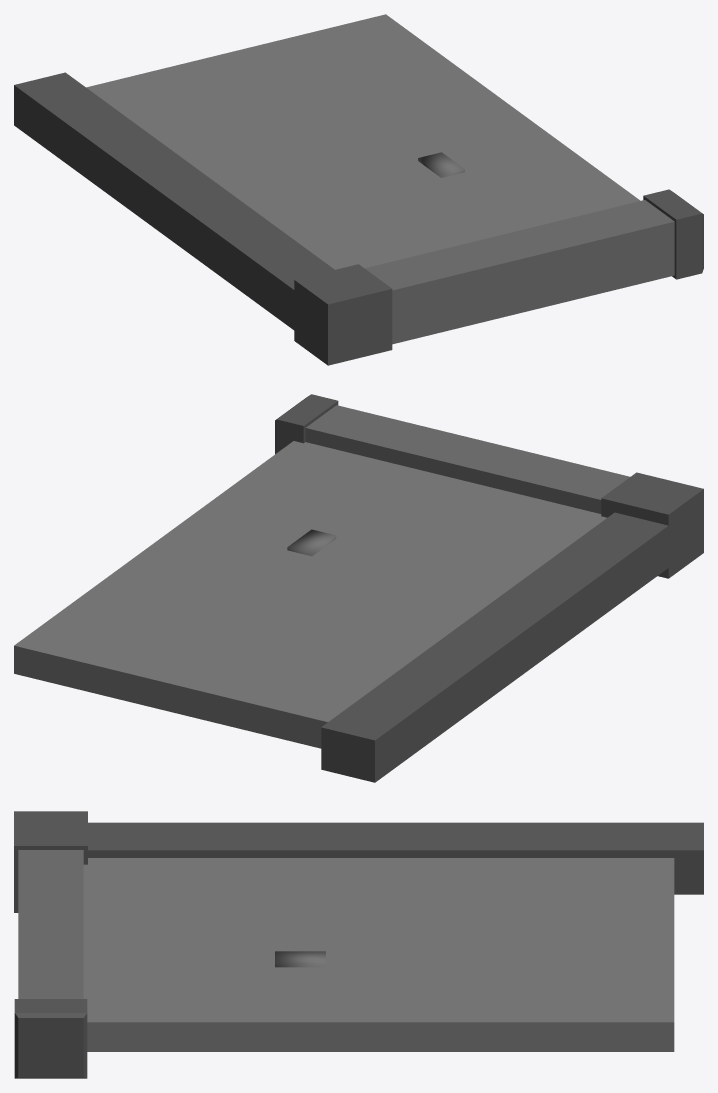
Rendered from FenceBroke.fbx.
The picture shows the model from 3 angles, top to bottom: view 1: azimuth 30°, elevation 25°; view 2: azimuth 150°, elevation 25°; view 3: azimuth 270°, elevation 25°; orthographic projection. The views are drawn at different scales.
Parts seen in each view (by area): view 1: Fence_06_1_fracturepart18, Fence_06_1_fracturepart14, Fence_06_1_fracturepart9, Fence_06_1_fracturepart15, Fence_06_1_fracturepart5, Fence_06_1_fracturepart3_2, Fence_06_1_fracturepart11_2, Fence_06_1_fracturepart20, Fence_06_1_fracturepart2, Fence_06_1_fracturepart16, Fence_06_1_fracturepart6, Fence_06_1_fracturepart4 (+15 smaller); view 2: Fence_06_1_fracturepart18, Fence_06_1_fracturepart5, Fence_06_1_fracturepart9, Fence_06_1_fracturepart15, Fence_06_1_fracturepart14, Fence_06_1_fracturepart3_2, Fence_06_1_fracturepart11_2, Fence_06_1_fracturepart2, Fence_06_1_fracturepart10_2, Fence_06_1_fracturepart20, Fence_06_1_fracturepart16, Fence_06_1_fracturepart6 (+17 smaller); view 3: Fence_06_1_fracturepart9, Fence_06_1_fracturepart3_2, Fence_06_1_fracturepart18, Fence_06_1_fracturepart6, Fence_06_1_fracturepart5, Fence_06_1_fracturepart15, Fence_06_1_fracturepart11_2, Fence_06_1_fracturepart2, Fence_06_1_fracturepart17, Fence_06_1_fracturepart20, Fence_06_1_fracturepart16, Fence_06_1_fracturepart14 (+17 smaller).
Part boxes in pixels (left/top/right/bottom): Fence_06_1_fracturepart18: left=443, top=197, right=703, bottom=327; Fence_06_1_fracturepart14: left=294, top=249, right=466, bottom=365; Fence_06_1_fracturepart9: left=321, top=66, right=511, bottom=143; Fence_06_1_fracturepart15: left=175, top=64, right=348, bottom=138; Fence_06_1_fracturepart5: left=213, top=37, right=456, bottom=89; Fence_06_1_fracturepart3_2: left=476, top=154, right=640, bottom=213; Fence_06_1_fracturepart11_2: left=285, top=165, right=407, bottom=250; Fence_06_1_fracturepart20: left=163, top=187, right=299, bottom=277; Fence_06_1_fracturepart2: left=345, top=196, right=513, bottom=257; Fence_06_1_fracturepart16: left=201, top=119, right=383, bottom=170; Fence_06_1_fracturepart6: left=402, top=107, right=576, bottom=163; Fence_06_1_fracturepart4: left=356, top=141, right=503, bottom=210; Fence_06_1_fracturepart18: left=287, top=394, right=554, bottom=494; Fence_06_1_fracturepart5: left=71, top=591, right=209, bottom=717; Fence_06_1_fracturepart9: left=88, top=548, right=292, bottom=630; Fence_06_1_fracturepart15: left=208, top=605, right=377, bottom=683; Fence_06_1_fracturepart14: left=517, top=458, right=703, bottom=578; Fence_06_1_fracturepart3_2: left=214, top=441, right=375, bottom=532; Fence_06_1_fracturepart11_2: left=355, top=539, right=560, bottom=591; Fence_06_1_fracturepart2: left=374, top=492, right=535, bottom=541; Fence_06_1_fracturepart10_2: left=195, top=676, right=370, bottom=738; Fence_06_1_fracturepart20: left=486, top=547, right=626, bottom=643; Fence_06_1_fracturepart16: left=258, top=577, right=388, bottom=651; Fence_06_1_fracturepart6: left=147, top=499, right=286, bottom=572; Fence_06_1_fracturepart9: left=379, top=950, right=539, bottom=1051; Fence_06_1_fracturepart3_2: left=87, top=961, right=288, bottom=1051; Fence_06_1_fracturepart18: left=14, top=890, right=83, bottom=1078; Fence_06_1_fracturepart6: left=249, top=958, right=395, bottom=1051; Fence_06_1_fracturepart5: left=518, top=928, right=674, bottom=1051; Fence_06_1_fracturepart15: left=459, top=879, right=653, bottom=954; Fence_06_1_fracturepart11_2: left=172, top=858, right=356, bottom=931; Fence_06_1_fracturepart2: left=87, top=877, right=251, bottom=963; Fence_06_1_fracturepart17: left=550, top=971, right=674, bottom=1051; Fence_06_1_fracturepart20: left=175, top=822, right=377, bottom=857; Fence_06_1_fracturepart16: left=349, top=879, right=494, bottom=950; Fence_06_1_fracturepart14: left=14, top=811, right=87, bottom=912.
Size of the model in its own units: 294 by 45.43 by 423.
Materials: 1 (1 with a texture image).
